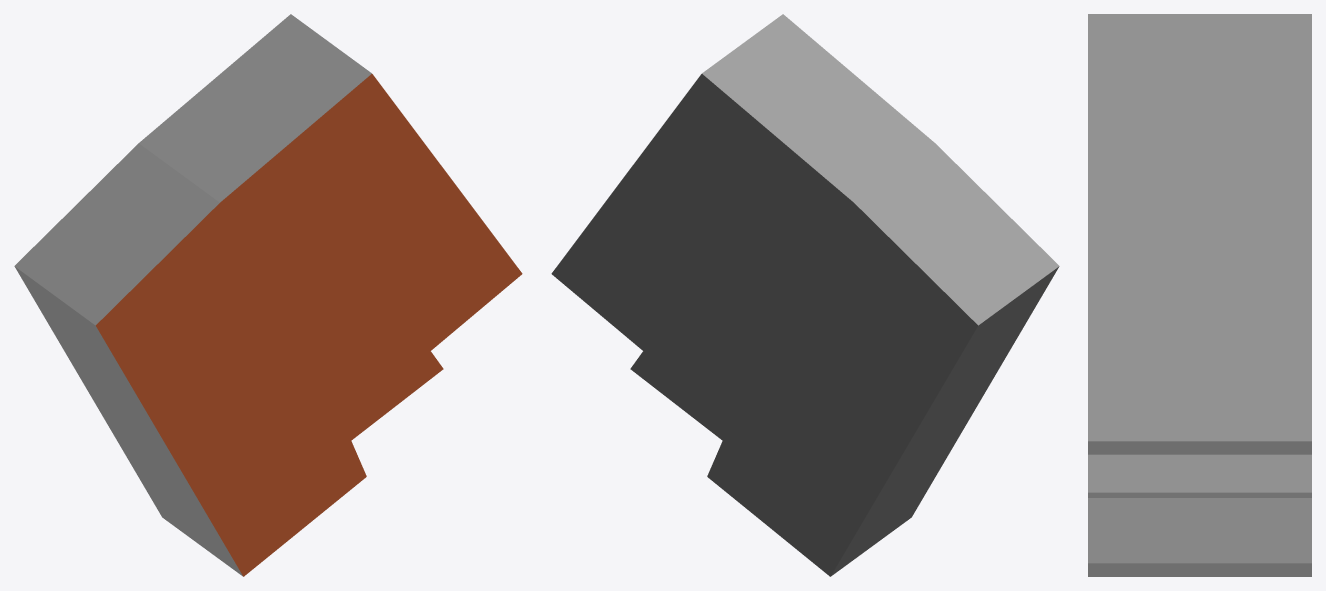
The model's file is construction_3284_assumed_A_Casa_h6m.obj.
3 renders of one model, left to right at view 1: azimuth 30°, elevation 25°; view 2: azimuth 150°, elevation 25°; view 3: azimuth 270°, elevation 25°, orthographic. The views are drawn at different scales.
Visible parts, largest first — view 1: construction_3284_assumed_A_Casa; view 2: construction_3284_assumed_A_Casa; view 3: construction_3284_assumed_A_Casa.
Part boxes in pixels (x1,y1,x2,y2): construction_3284_assumed_A_Casa: [14, 14, 522, 576]; construction_3284_assumed_A_Casa: [551, 14, 1059, 576]; construction_3284_assumed_A_Casa: [1088, 14, 1311, 576].
Size of the model in its own units: 18.19 by 19.22 by 6.
